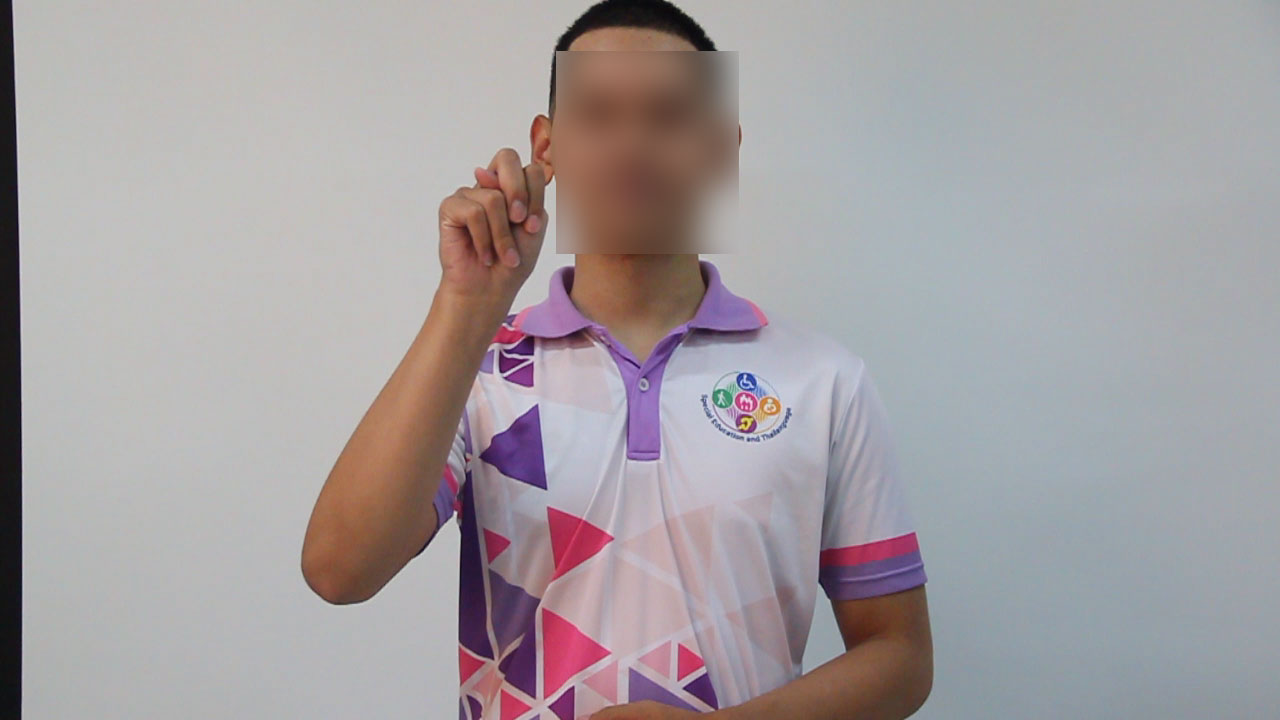nor: (424, 146, 566, 300)
